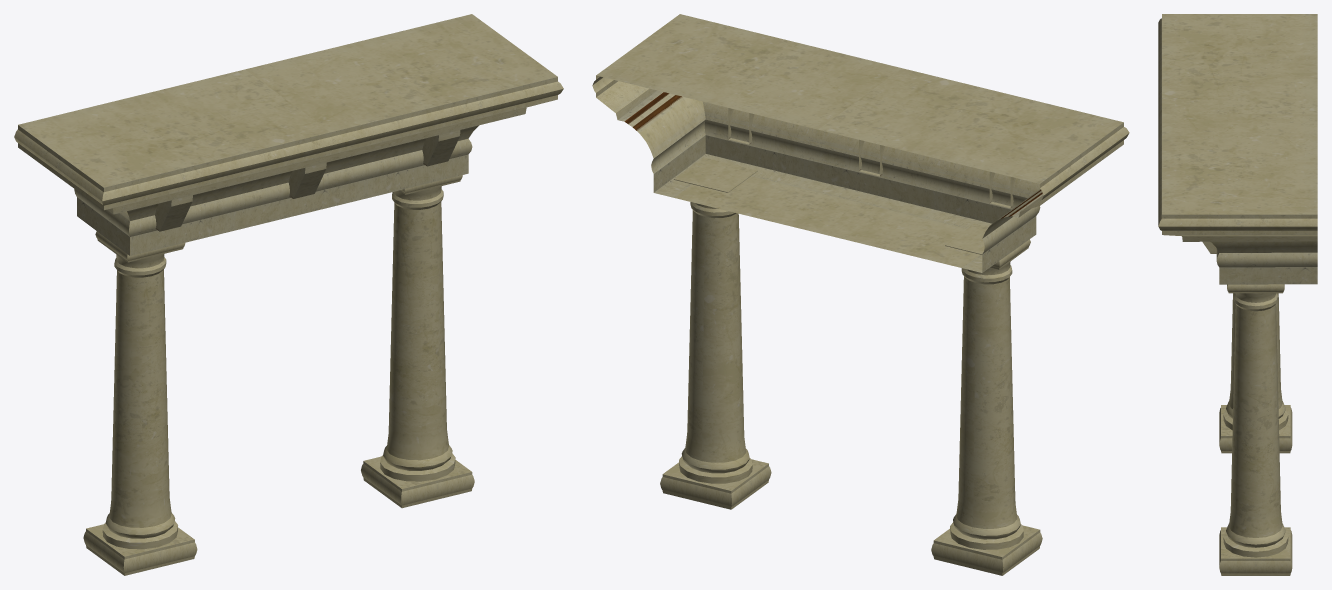
The model's file is Prop_ColumnArch.gltf.
3 views of the same model, side by side, from view 1: azimuth 30°, elevation 25°; view 2: azimuth 150°, elevation 25°; view 3: azimuth 270°, elevation 25° (orthographic). The views are drawn at different scales.
Visible parts, largest first — view 1: Prop_ColumnArch; view 2: Prop_ColumnArch; view 3: Prop_ColumnArch.
Boxes of the visible parts, <box> form: Prop_ColumnArch: <box>14,14,563,575</box>; Prop_ColumnArch: <box>592,14,1129,575</box>; Prop_ColumnArch: <box>1158,14,1317,575</box>.
Size of the model in its own units: 3.66 by 3.22 by 1.21.
Materials: 1 (1 with a texture image).
